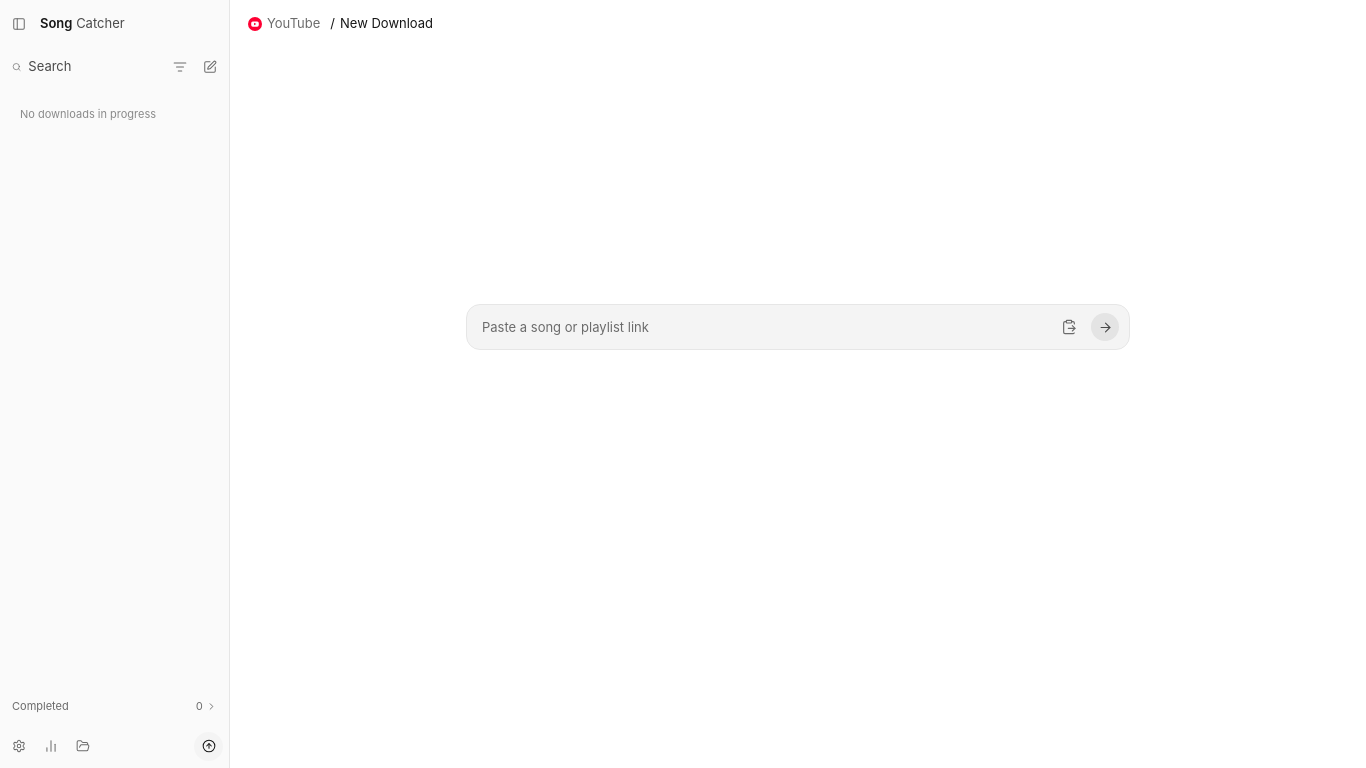
App › opens Settings in a dialog from the sidebar footer and closes it
Click the button named "Settings" at (19, 746), box [6, 733, 32, 759]
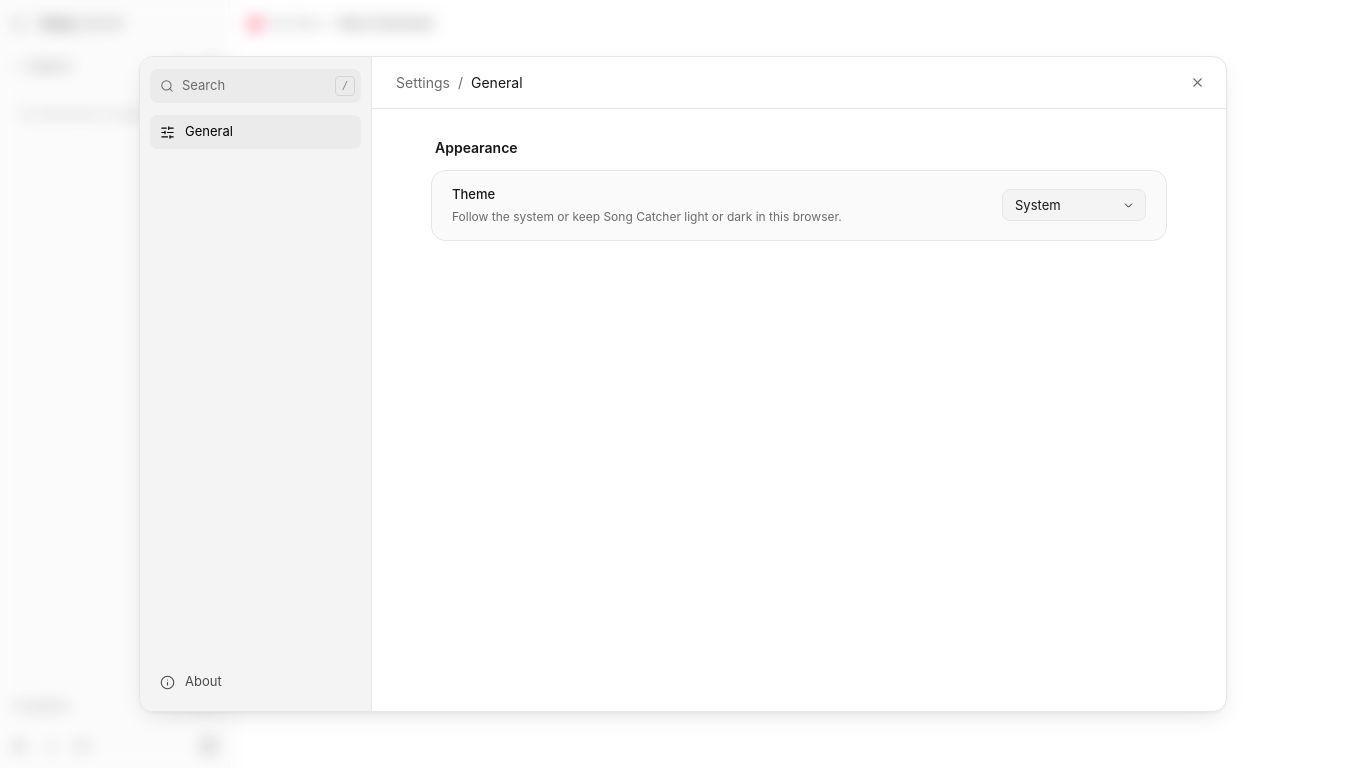
Click the button named "Close" at (1197, 82), box [1182, 68, 1212, 98]
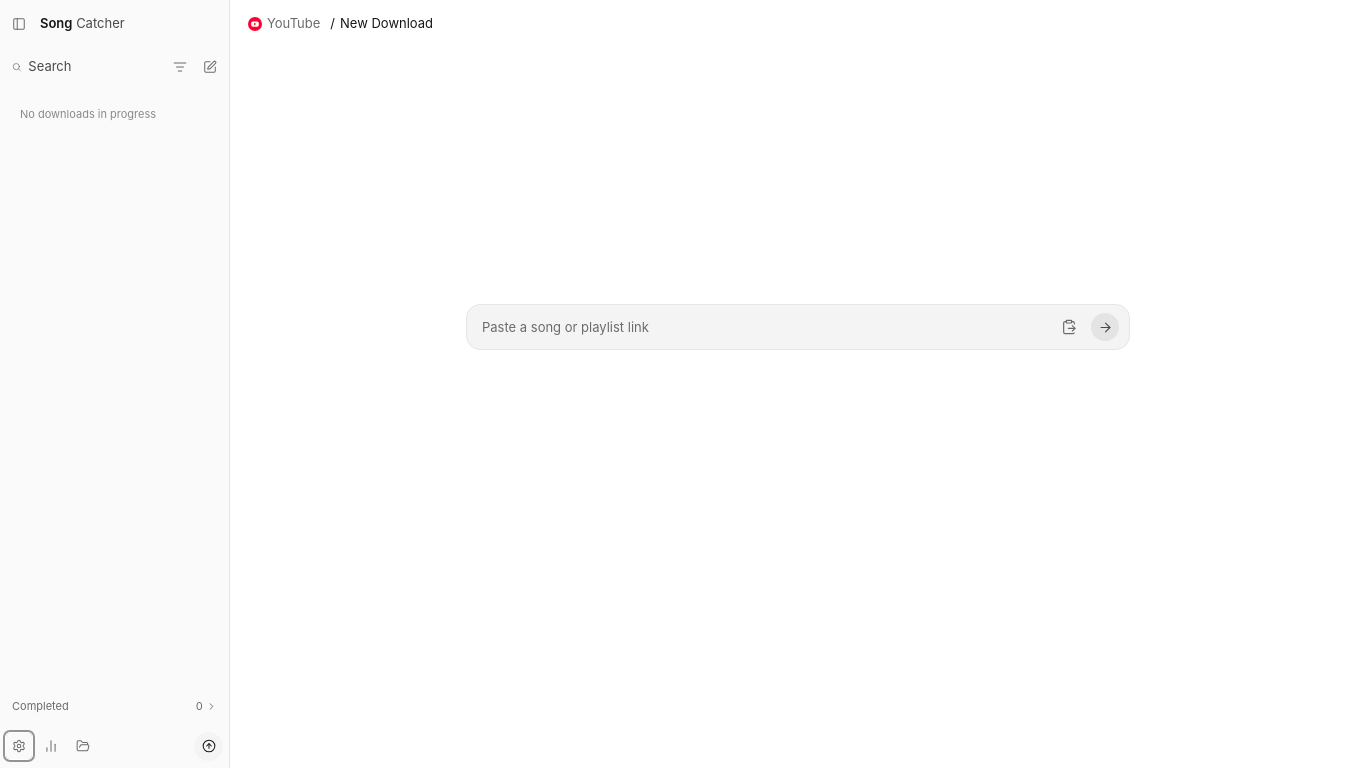
Expected: the navigation bar named "Breadcrumb" reads "YouTube / New Download", [248, 14, 433, 34]
Expected: the dialog is gone
